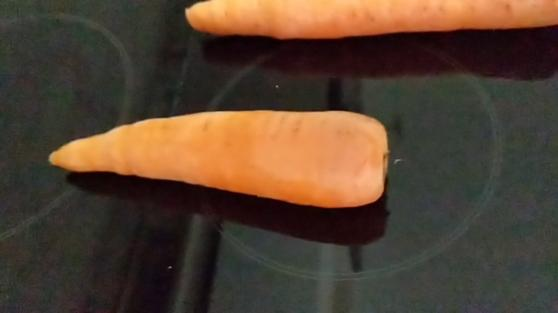carrot: (45, 106, 400, 214), (185, 1, 553, 44)
